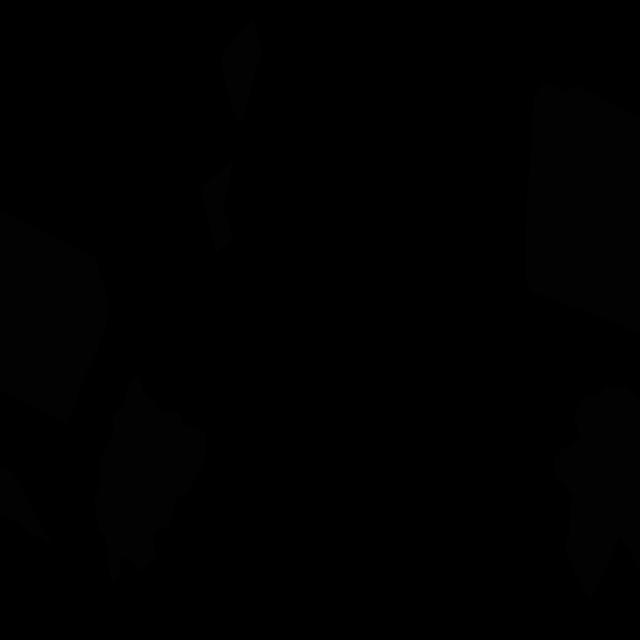cardboard: (524, 80, 640, 337), (94, 372, 206, 582), (0, 210, 109, 425), (554, 385, 640, 598), (0, 468, 55, 549), (221, 19, 262, 124), (200, 159, 234, 253)
